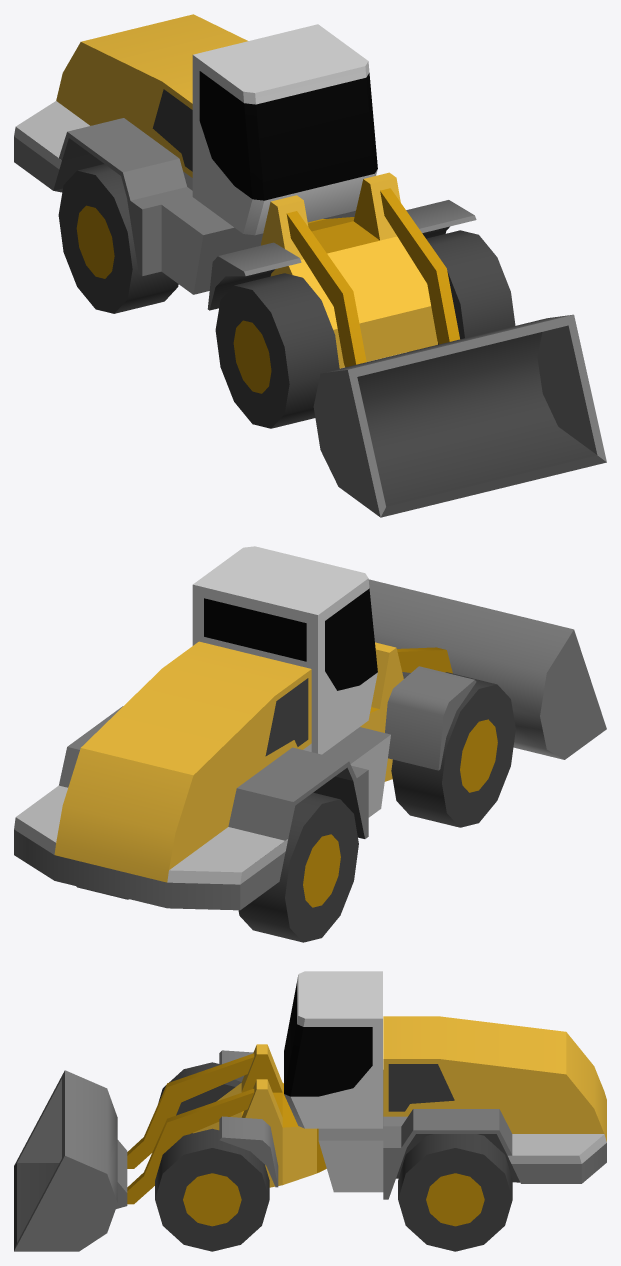
Rendered from spec_Liebherr_L566_v1.glb.
The picture shows the model from 3 angles, top to bottom: view 1: azimuth 30°, elevation 25°; view 2: azimuth 150°, elevation 25°; view 3: azimuth 270°, elevation 25°; orthographic projection. The views are drawn at different scales.
Visible parts, largest first — view 1: spec_Liebherr_L566_v1; view 2: spec_Liebherr_L566_v1; view 3: spec_Liebherr_L566_v1.
Boxes of the visible parts, box(x1,y1,x2,y2) form: spec_Liebherr_L566_v1: box(14, 14, 606, 517); spec_Liebherr_L566_v1: box(14, 546, 606, 942); spec_Liebherr_L566_v1: box(14, 971, 606, 1251).
Bounding box in the file's own units: 3.06 × 3.5 × 8.79.
1 material, 1 textured.
